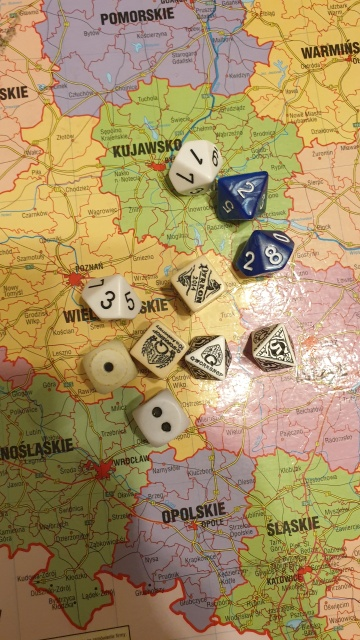d10-1: (165, 137, 223, 191)
d10-2: (223, 169, 265, 210)
d10-3: (73, 269, 144, 325)
d10-8: (230, 222, 298, 286)
d6-1: (81, 344, 132, 393)
d6-2: (129, 393, 189, 450)
d6p-1: (168, 252, 227, 314)
d6p-6: (127, 327, 187, 381)
d8p-5: (244, 321, 302, 373)
d8p-8: (185, 331, 235, 384)
